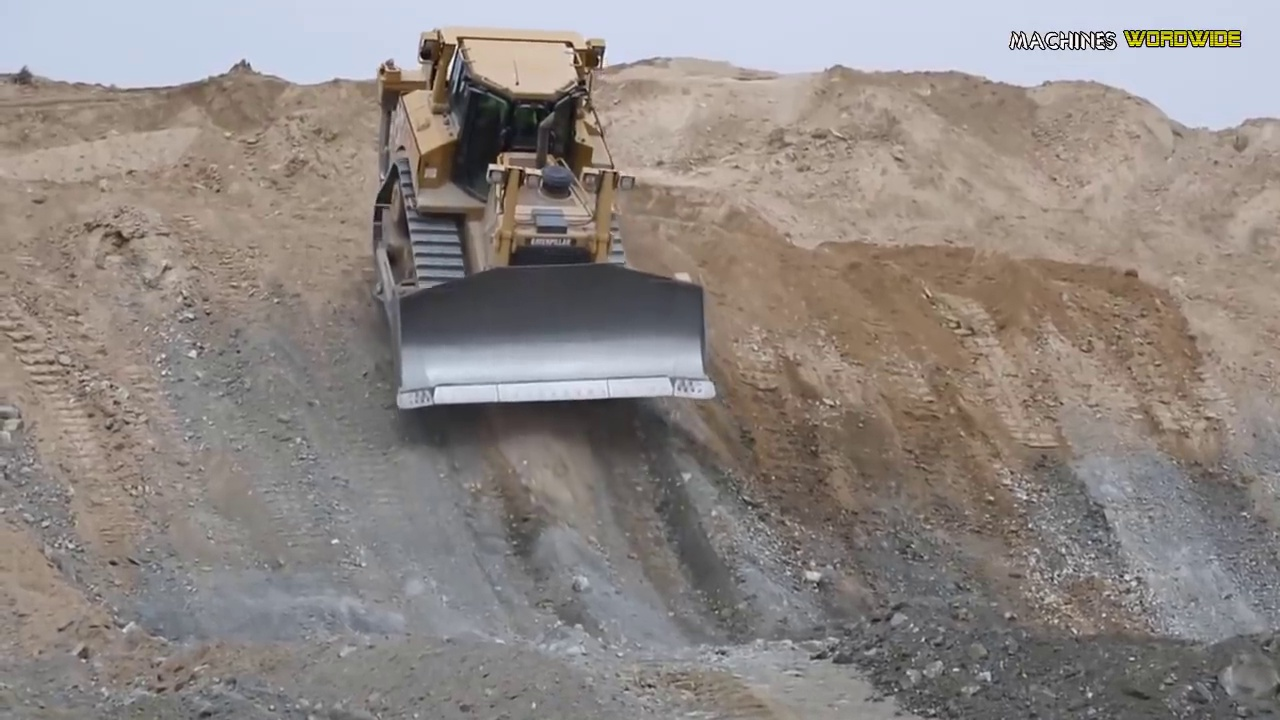bulldozer: (376, 27, 727, 410)
